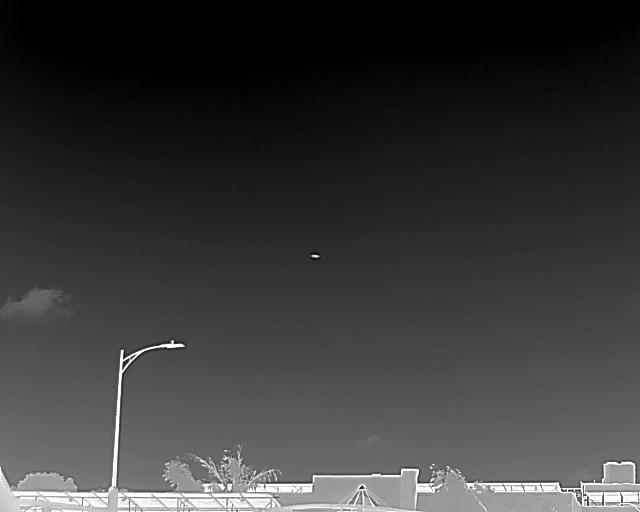fpv-drone: (310, 252, 320, 258)
